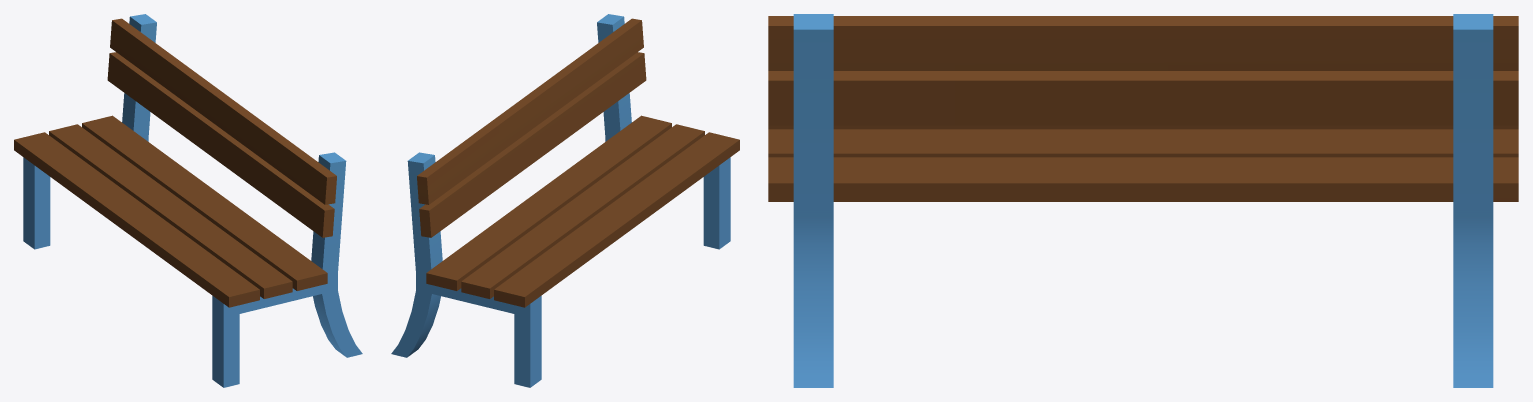
File: Bench_2_B.glb
The picture shows the model from 3 angles, left to right: view 1: azimuth 30°, elevation 25°; view 2: azimuth 150°, elevation 25°; view 3: azimuth 270°, elevation 25°; orthographic projection. The views are drawn at different scales.
Visible parts, largest first — view 1: Bench_2_B; view 2: Bench_2_B; view 3: Bench_2_B.
Boxes of the visible parts, x1,y1,x2,y2 form: Bench_2_B: (14, 14, 362, 387); Bench_2_B: (391, 14, 739, 387); Bench_2_B: (768, 14, 1518, 387).
Bounding box in the file's own units: 0.6234 × 0.8385 × 1.65.
Materials: 2 (2 with a texture image).
